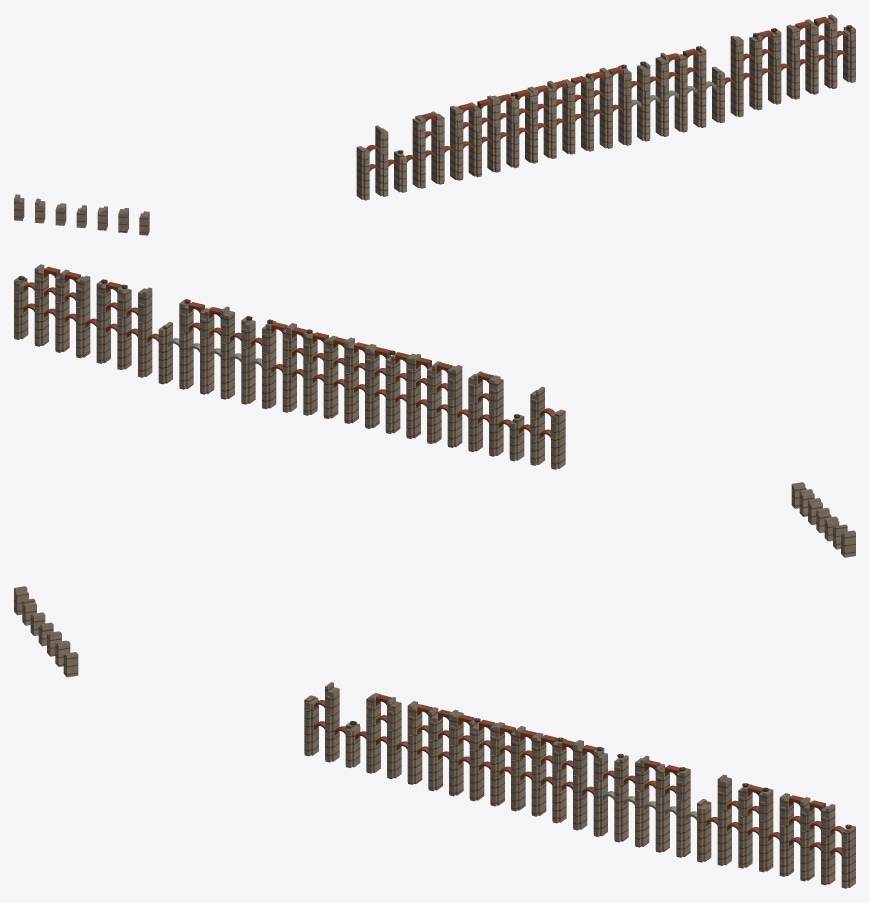
3 views of the same model, one above another, from view 1: azimuth 30°, elevation 25°; view 2: azimuth 150°, elevation 25°; view 3: azimuth 330°, elevation 25° (orthographic). The views are drawn at different scales.
Visible parts, largest first — view 1: acueducto_de_los_milagros; view 2: acueducto_de_los_milagros; view 3: acueducto_de_los_milagros.
Boxes of the visible parts, box(x1,y1,x2,y2) form: acueducto_de_los_milagros: box(14, 14, 855, 235); acueducto_de_los_milagros: box(14, 264, 855, 557); acueducto_de_los_milagros: box(14, 586, 855, 888).
Bounding box in the file's own units: 305 × 28.74 × 31.96.
